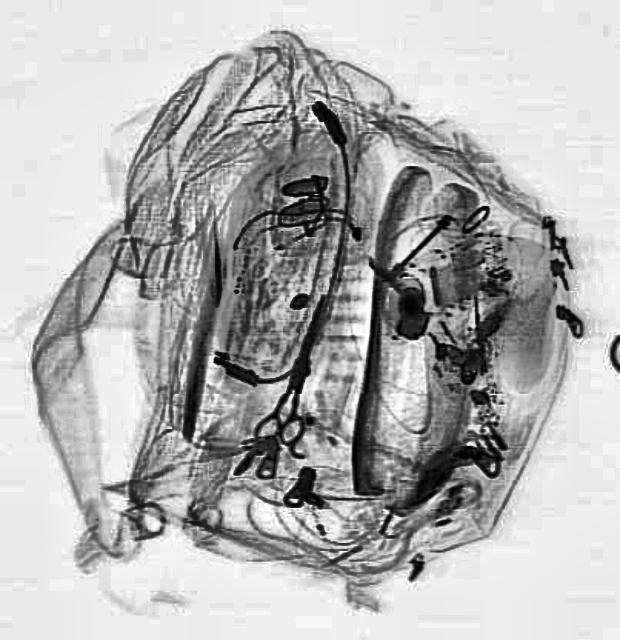Scissors: (248, 286, 344, 448)
